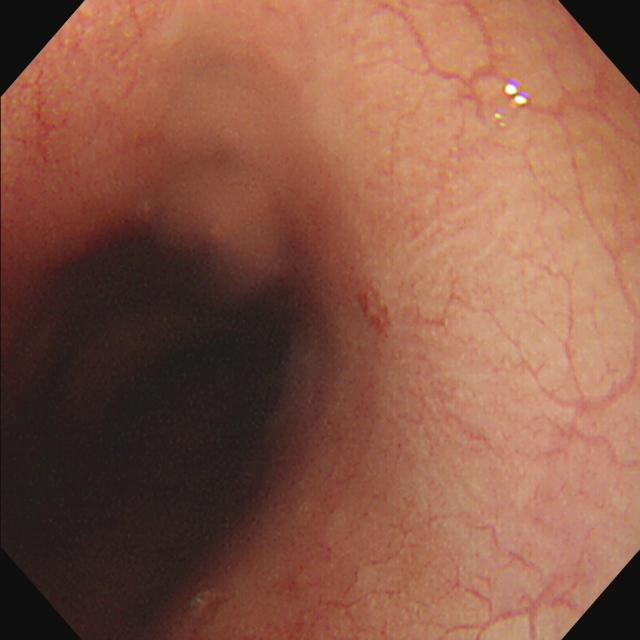E: (43, 257, 239, 554)
U: (502, 82, 531, 109)
